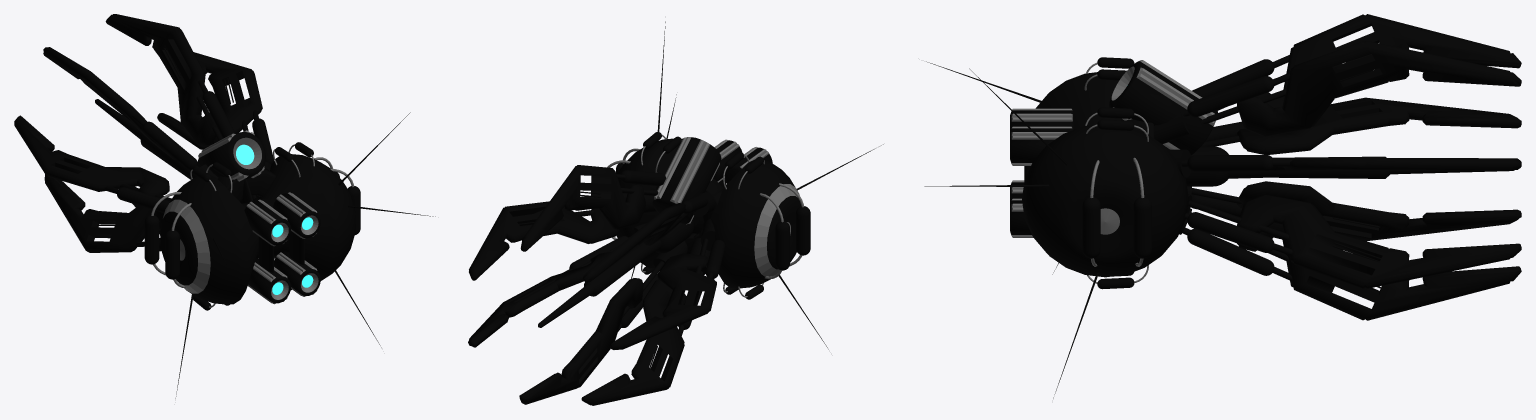
The model's file is ship_probe_concept.glb.
3 renders of one model, left to right at view 1: azimuth 30°, elevation 25°; view 2: azimuth 150°, elevation 25°; view 3: azimuth 270°, elevation 25°, orthographic. The views are drawn at different scales.
Visible parts, largest first — view 1: Object_6, Object_4, Object_3, Object_5; view 2: Object_6, Object_4, Object_5; view 3: Object_6, Object_4, Object_5.
Part boxes in pixels (box(x1,y1,x2,y2)): Object_6: box(14, 14, 435, 398); Object_4: box(163, 130, 318, 304); Object_3: box(236, 144, 313, 294); Object_5: box(151, 144, 354, 307); Object_6: box(468, 21, 883, 405); Object_4: box(654, 137, 799, 276); Object_5: box(607, 134, 804, 297); Object_6: box(924, 14, 1521, 398); Object_4: box(1011, 60, 1215, 237); Object_5: box(1084, 62, 1148, 283).
Size of the model in its own units: 0.9807 by 1.19 by 1.94.
